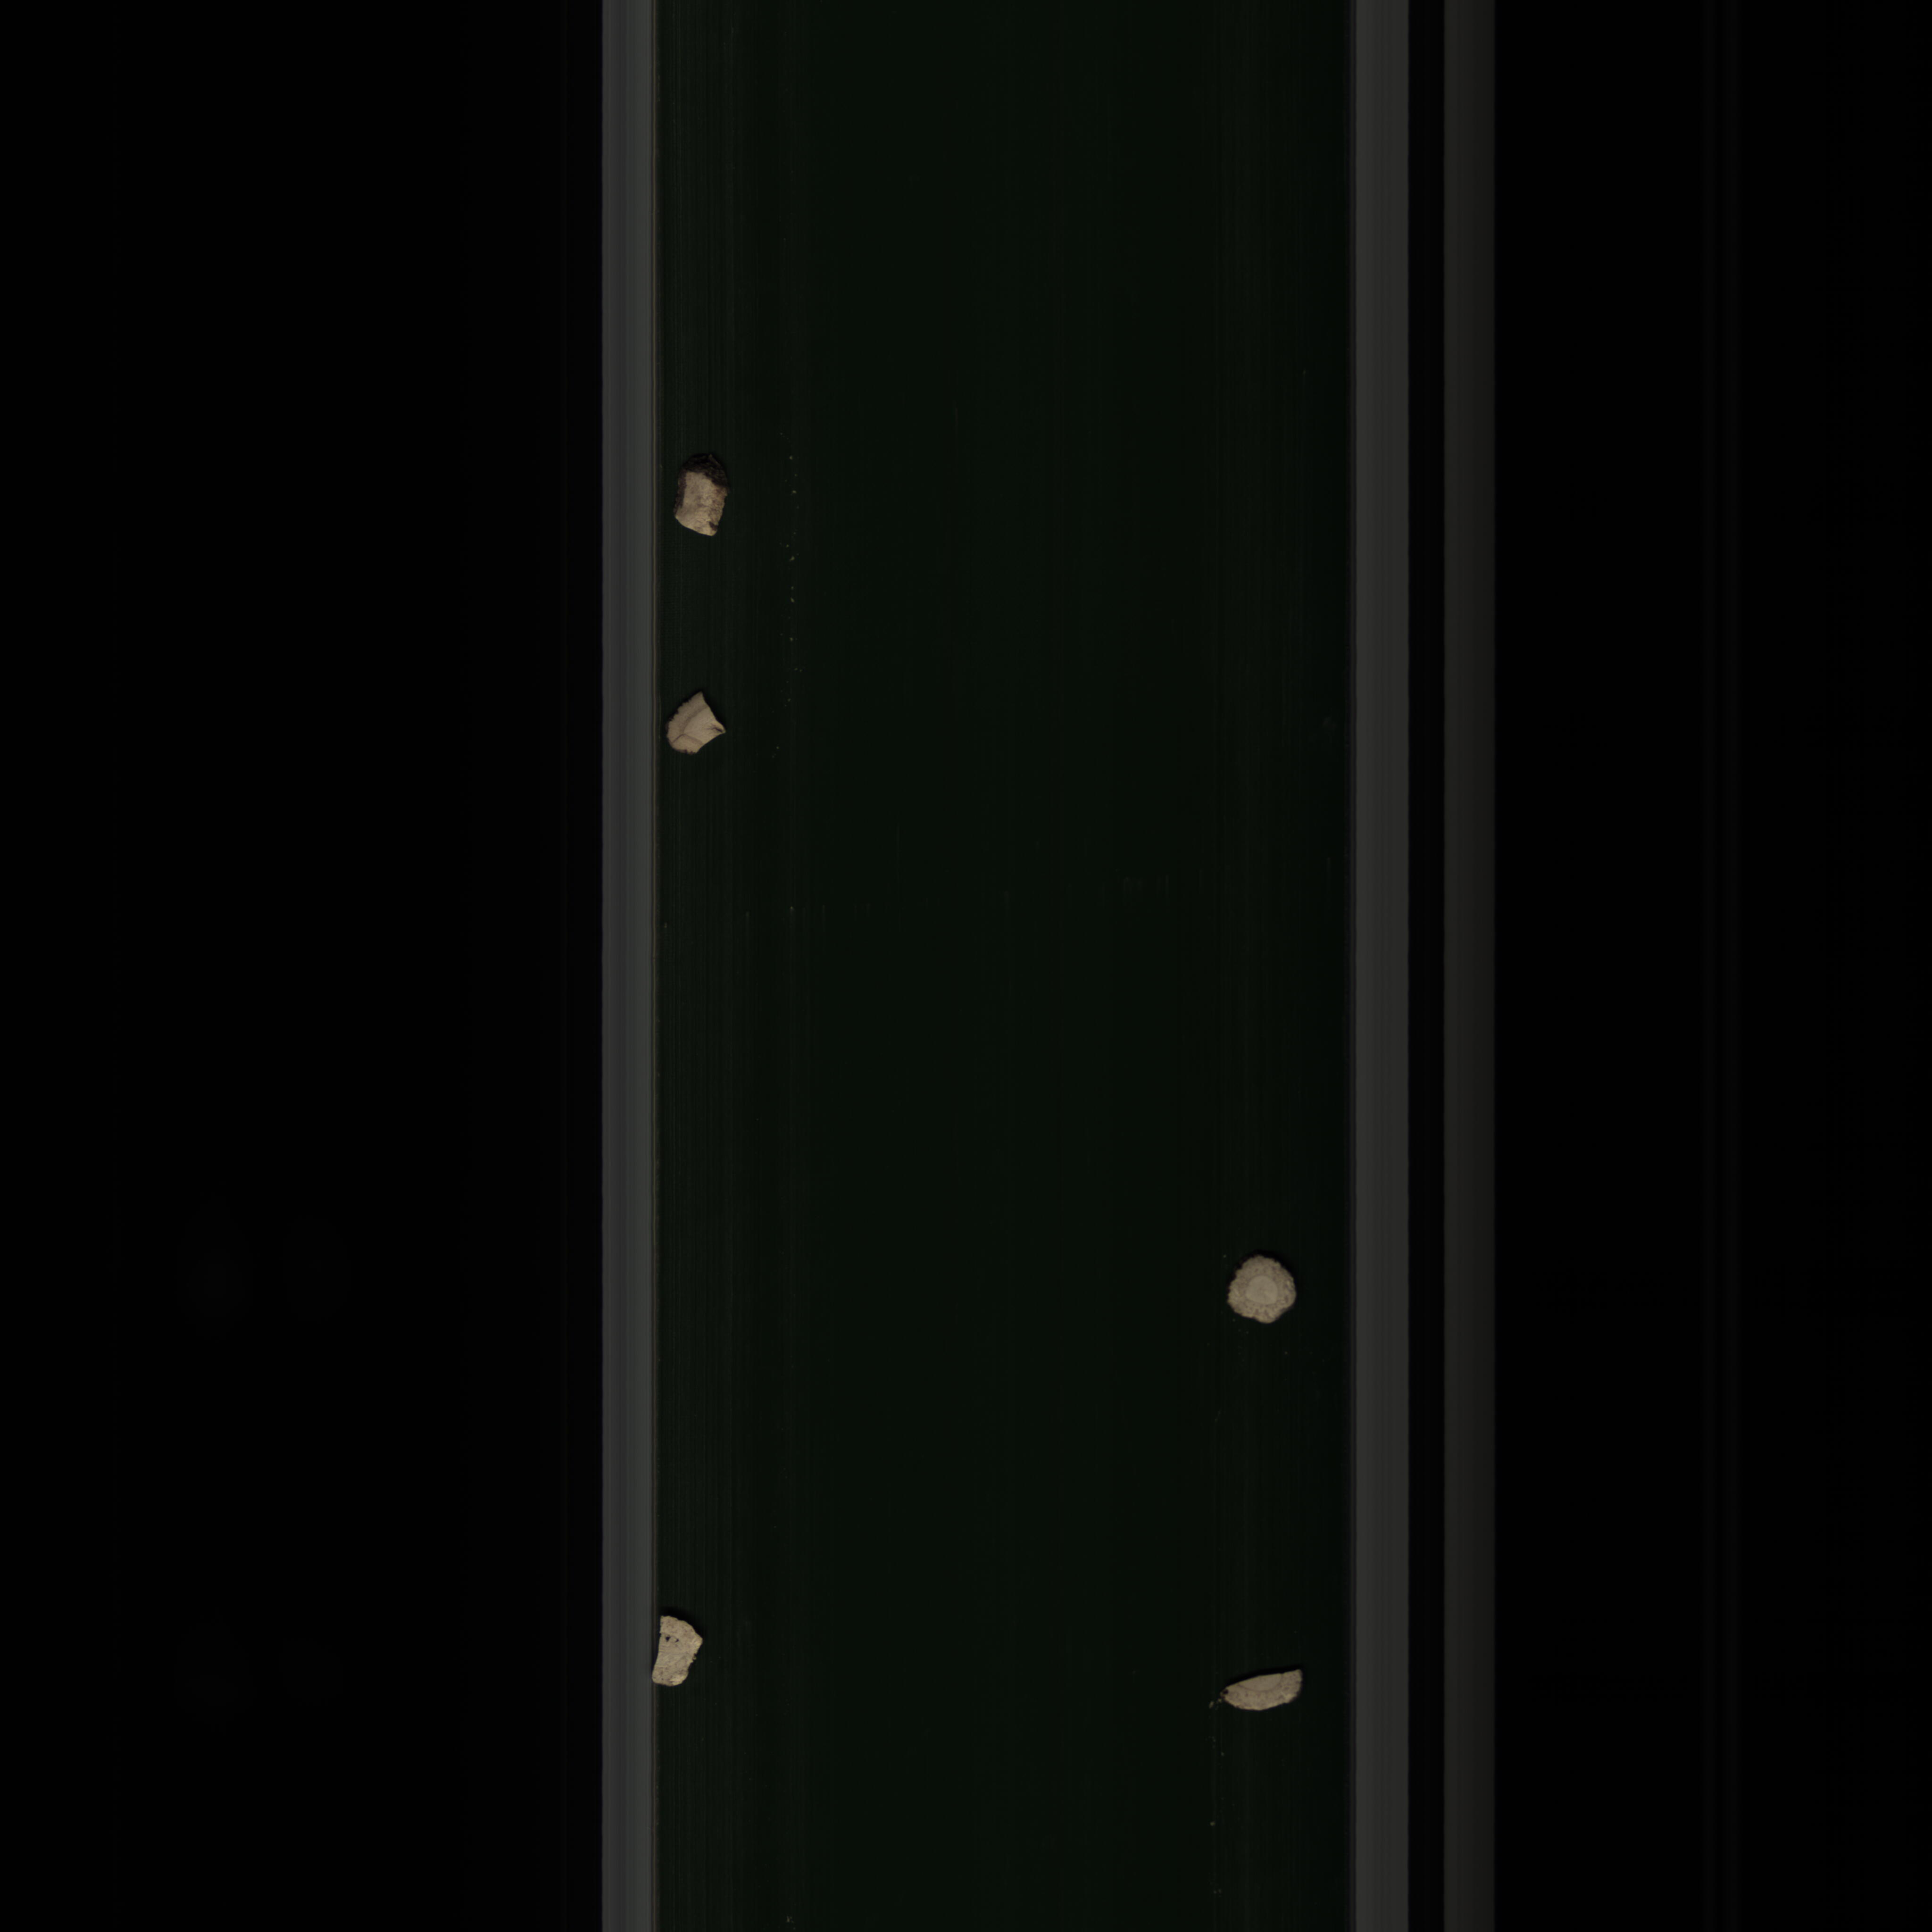debris: (1201, 1661, 1315, 1727), (669, 460, 731, 552), (649, 1608, 706, 1706), (660, 681, 729, 759)
